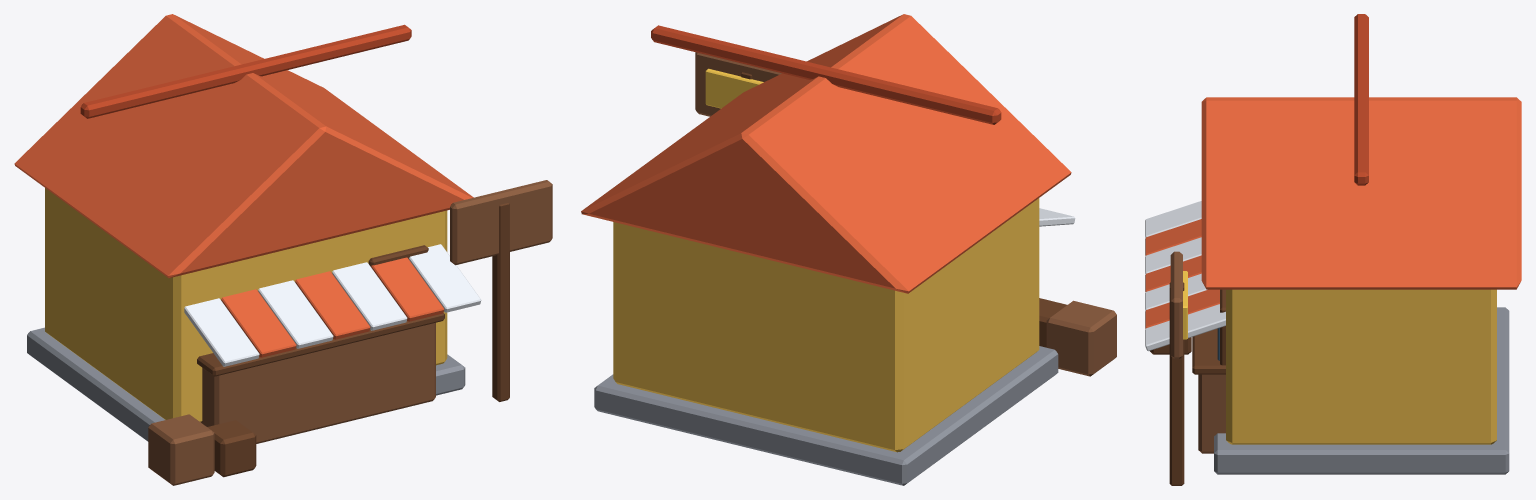
Rendered from SM_Building_Market.fbx.
3 views of the same model, side by side, from view 1: azimuth 30°, elevation 25°; view 2: azimuth 150°, elevation 25°; view 3: azimuth 270°, elevation 25° (orthographic). The views are drawn at different scales.
Parts seen in each view (by area): view 1: SM_Building_Market; view 2: SM_Building_Market; view 3: SM_Building_Market.
Boxes of the visible parts, bbox=[...] form: SM_Building_Market: bbox=[14, 14, 552, 485]; SM_Building_Market: bbox=[581, 14, 1116, 485]; SM_Building_Market: bbox=[1145, 14, 1521, 485].
Bounding box in the file's own units: 3.68 × 2.78 × 3.06.
